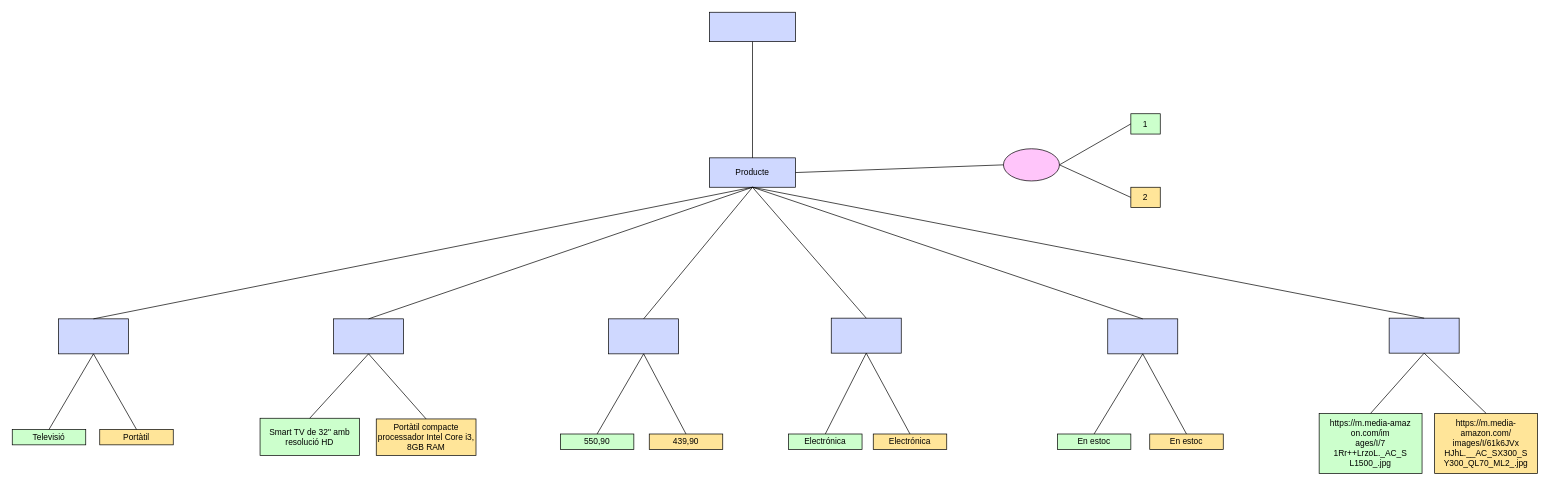
The diagram is 1550 pixels wide and 486 high, and some of its shapes have lost their labels. The shapes that lost their labels are listed below. From the top down, each one's centre as x and y in pixels, then its label:
the point at 752,27: Botiga
the point at 1031,164: Codi
the point at 93,336: Nom
the point at 368,336: Descripció
the point at 643,336: Preu
the point at 866,335: Categoria
the point at 1142,336: Disponibilitat
the point at 1423,335: Imatge
